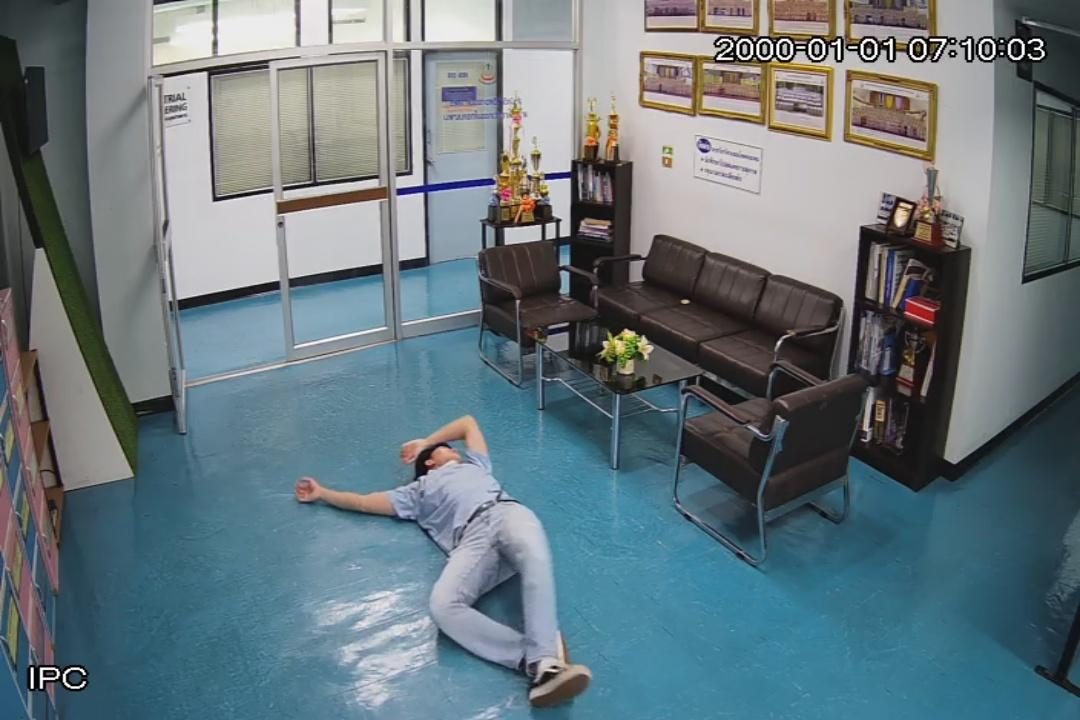fall: (293, 413, 600, 708)
